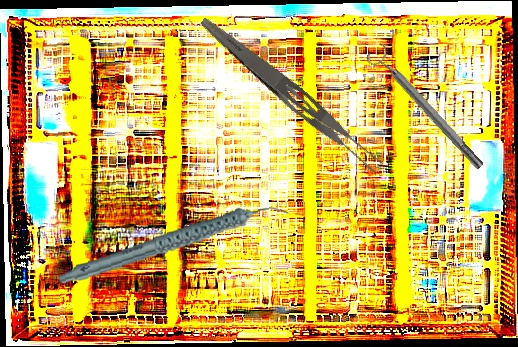Dressing Forceps: (192, 13, 389, 178)
Fixation Ring: (364, 41, 489, 176)
Handpiece: (52, 202, 294, 287)
